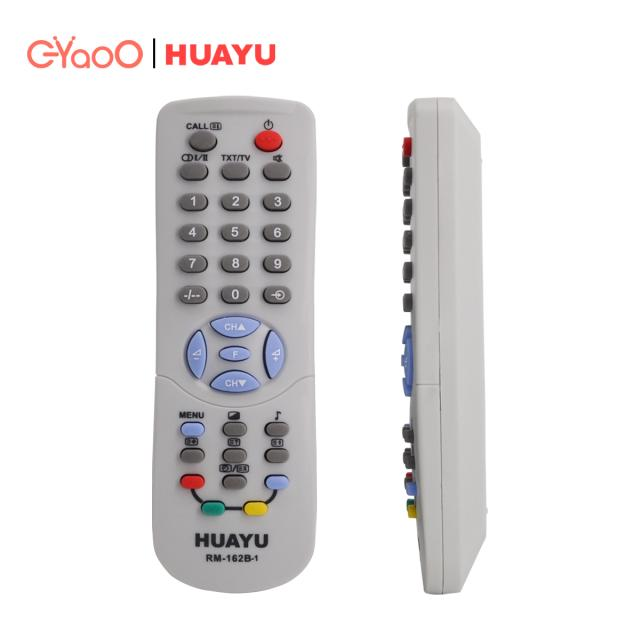remote: (149, 100, 313, 601), (405, 100, 489, 597)
